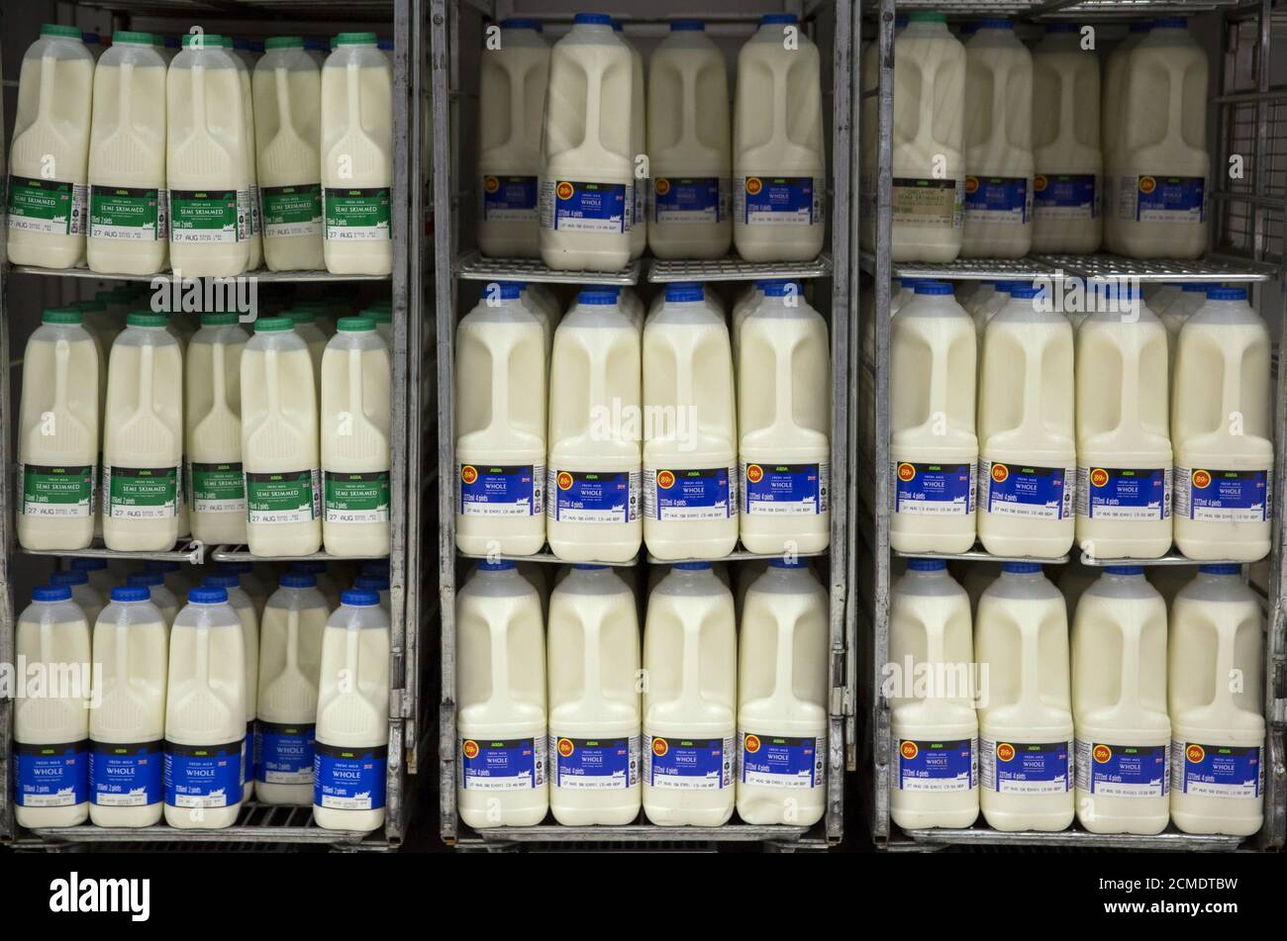milk: (644, 284, 739, 556), (541, 16, 641, 269), (166, 35, 249, 273), (104, 314, 182, 549), (88, 38, 165, 272)
